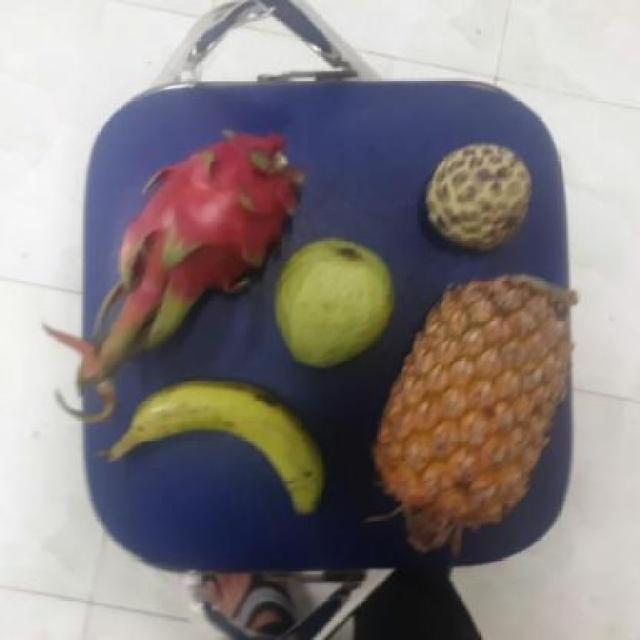dragon fruit: (117, 132, 301, 303)
guava: (271, 237, 395, 368)
pineapple: (378, 273, 564, 545)
sugar apple: (419, 146, 532, 251)
